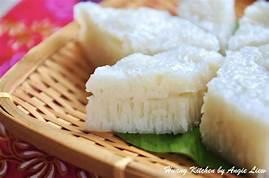Kiribath: (67, 4, 268, 157)
